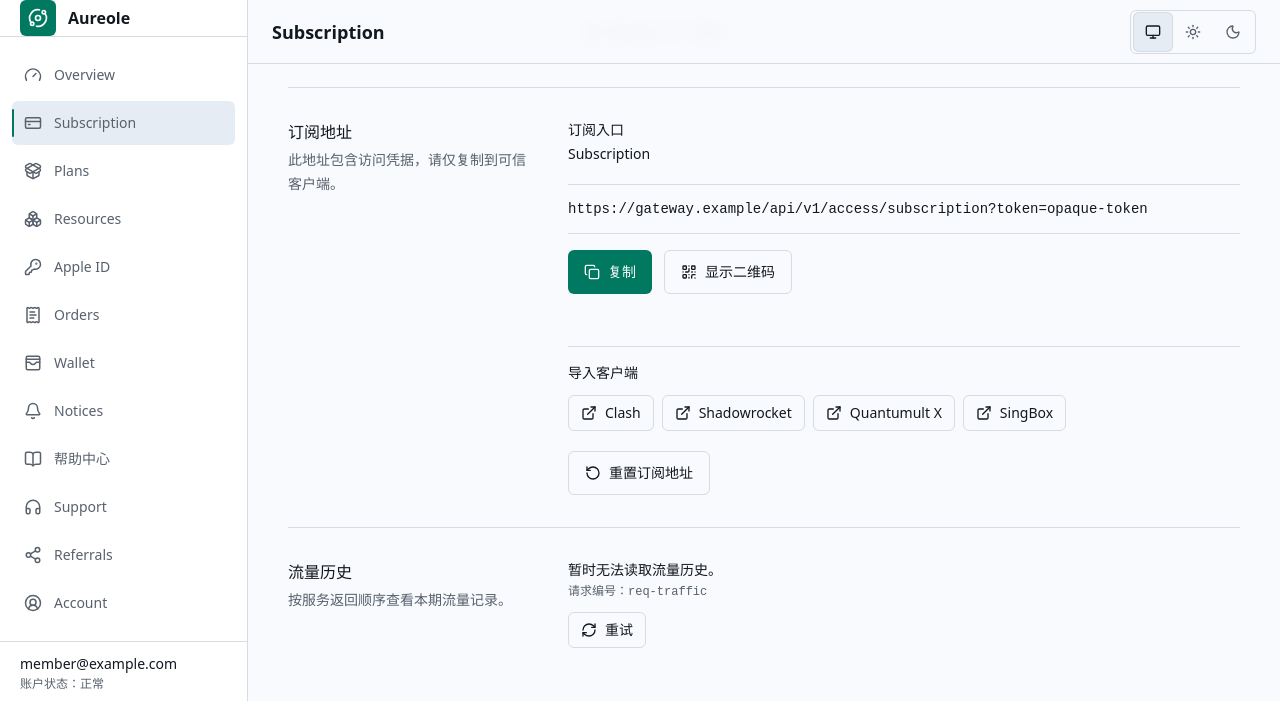
Scenario: Subscription page › keeps Subscription reads visible when Traffic fails and retries only Traffic
The image size is (1280, 701).
(page scrolled)
Expected: the text "https://gateway.example/api/v1/access/subscription?token=opaque-token" is shown, [568,197,1240,221]
Expected: the text "暂时无法读取流量历史。" is shown, [568,560,722,579]
Click the button "重试": click(607, 630) [568,612,646,648]
(page scrolled)
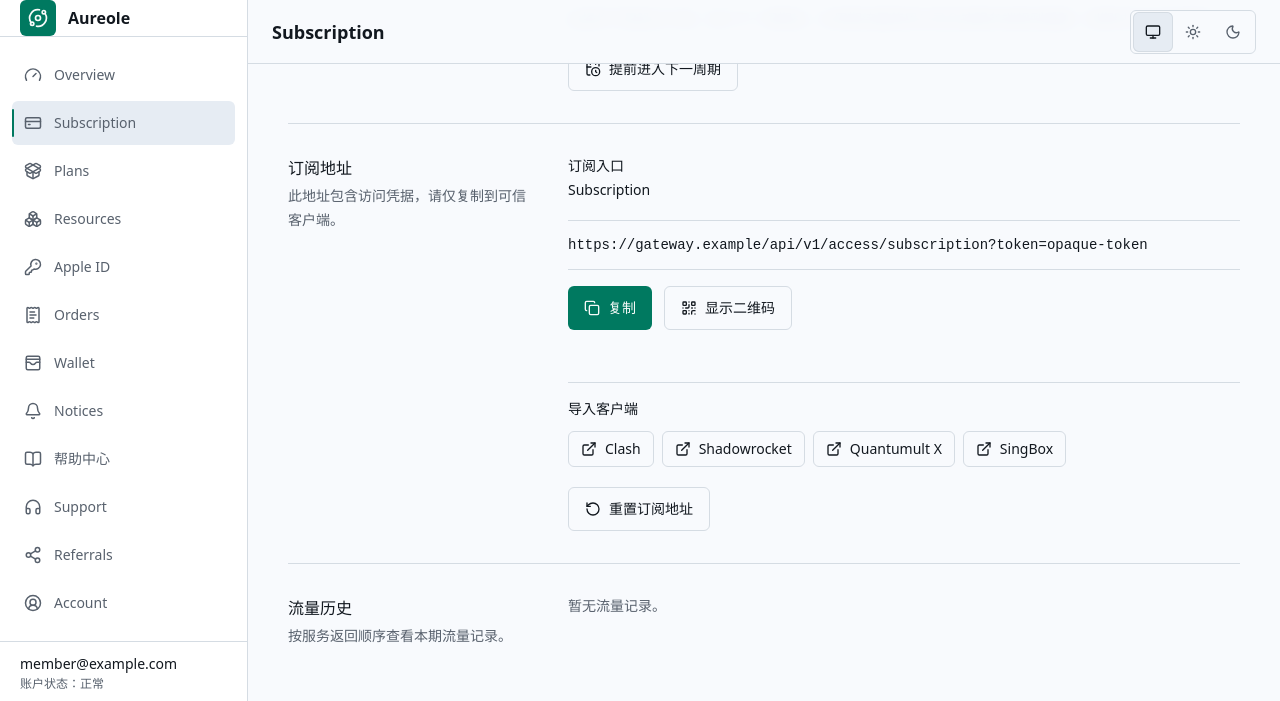
Expected: the text "暂无流量记录。" is shown, [568,596,666,615]
